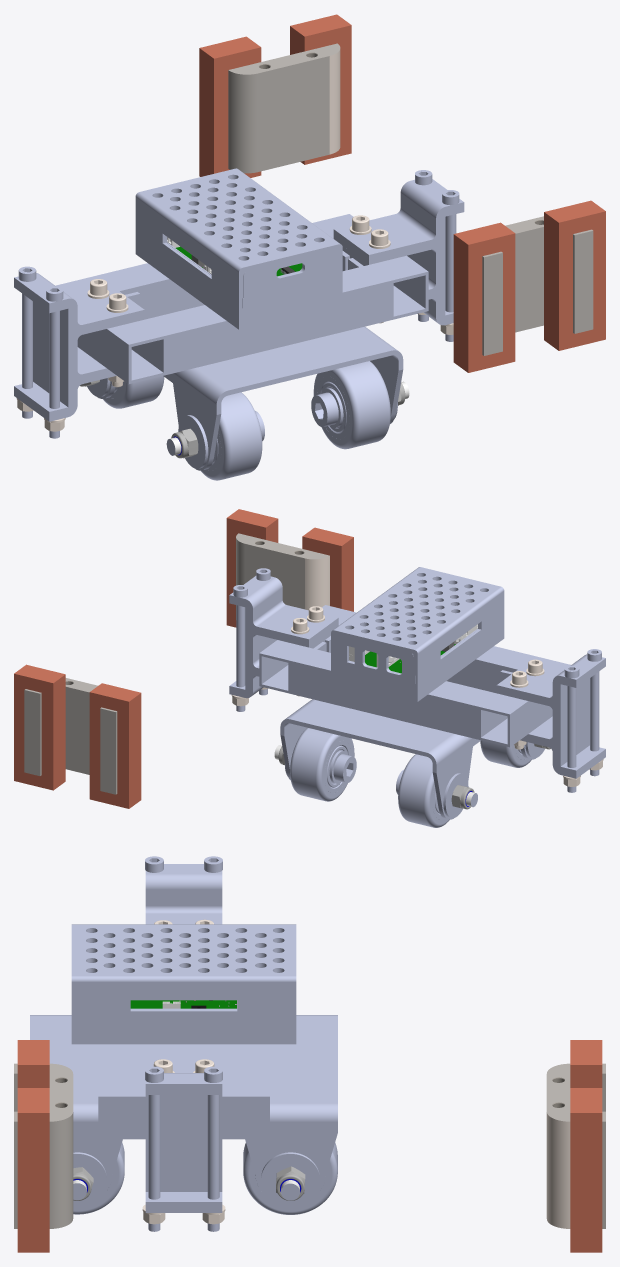
File: vehicle.glb
3 views of the same model, one above another, from view 1: azimuth 30°, elevation 25°; view 2: azimuth 150°, elevation 25°; view 3: azimuth 270°, elevation 25° (orthographic). The views are drawn at different scales.
Visible parts, largest first — view 1: caja placa pieza 1-1, EMSassembly-4/Ensamblaje unidad de levitación (EMS)-1/Bobina (×2), EMSassembly-5/Ensamblaje unidad de levitación (EMS)-1/Yugo-1, soporte ruedas-1, Larguero-3, EMSassembly-5/Ensamblaje unidad de levitación (EMS)-1/Bobina (×2), EMSassembly-4/Part2EMS-1, EMSassembly-4/Ensamblaje unidad de levitación (EMS)-1/Yugo-1, EMSassembly-5/Part2EMS-1, parte lateral caja placa pieza 2-1, Rueda-2, larguero entre perfiles-2 (+10 smaller); view 2: caja placa pieza 1-1, EMSassembly-5/Ensamblaje unidad de levitación (EMS)-1/Bobina (×2), soporte ruedas-1, Larguero-1, EMSassembly-4/Part2EMS-1, EMSassembly-5/Ensamblaje unidad de levitación (EMS)-1/Yugo-1, EMSassembly-5/Part2EMS-1, EMSassembly-4/Ensamblaje unidad de levitación (EMS)-1/Yugo-1, EMSassembly-4/Ensamblaje unidad de levitación (EMS)-1/Bobina (×2), Rueda-1, larguero entre perfiles-2, parte 2 lateral caja placa pieza 3-1 (+11 smaller); view 3: caja placa pieza 1-1, soporte ruedas-1, EMSassembly-5/Part2EMS-1, parte baja caja-1, EMSassembly-5/Ensamblaje unidad de levitación (EMS)-1/Bobina (×2), EMSassembly-4/Ensamblaje unidad de levitación (EMS)-1/Bobina (×2), larguero entre perfiles-1, EMSassembly-5/Ensamblaje unidad de levitación (EMS)-1/Yugo-1, EMSassembly-4/Ensamblaje unidad de levitación (EMS)-1/Yugo-1, EMSassembly-4/Part2EMS-1, Arandela exterior_Montaje soporte ruedas y abrazadera-1, Tornillo M10 x135-3 (+8 smaller).
Boxes of the visible parts, box(x1,y1,x2,y2) form: caja placa pieza 1-1: box(135, 168, 342, 308); EMSassembly-4/Ensamblaje unidad de levitación (EMS)-1/Bobina (×2): box(453, 200, 605, 372); EMSassembly-5/Ensamblaje unidad de levitación (EMS)-1/Yugo-1: box(228, 43, 340, 173); soporte ruedas-1: box(97, 326, 403, 470); Larguero-3: box(145, 265, 390, 374); EMSassembly-5/Ensamblaje unidad de levitación (EMS)-1/Bobina (×2): box(199, 14, 351, 177); EMSassembly-4/Part2EMS-1: box(14, 273, 144, 421); EMSassembly-4/Ensamblaje unidad de levitación (EMS)-1/Yugo-1: box(482, 216, 593, 355); EMSassembly-5/Part2EMS-1: box(333, 179, 464, 325); parte lateral caja placa pieza 2-1: box(243, 250, 337, 323); Rueda-2: box(313, 361, 390, 449); larguero entre perfiles-2: box(55, 278, 166, 383); caja placa pieza 1-1: box(331, 567, 504, 684); EMSassembly-5/Ensamblaje unidad de levitación (EMS)-1/Bobina (×2): box(14, 664, 141, 808); soporte ruedas-1: box(280, 699, 535, 819); Larguero-1: box(291, 647, 496, 739); EMSassembly-4/Part2EMS-1: box(496, 654, 605, 778); EMSassembly-5/Ensamblaje unidad de levitación (EMS)-1/Yugo-1: box(24, 678, 117, 794); EMSassembly-5/Part2EMS-1: box(229, 576, 338, 698); EMSassembly-4/Ensamblaje unidad de levitación (EMS)-1/Yugo-1: box(236, 533, 329, 619); EMSassembly-4/Ensamblaje unidad de levitación (EMS)-1/Bobina (×2): box(226, 509, 353, 627); Rueda-1: box(290, 728, 354, 801); larguero entre perfiles-2: box(478, 658, 570, 747); parte 2 lateral caja placa pieza 3-1: box(335, 635, 413, 696); caja placa pieza 1-1: box(71, 924, 296, 1011); soporte ruedas-1: box(30, 1015, 337, 1208); EMSassembly-5/Part2EMS-1: box(145, 1065, 222, 1212); parte baja caja-1: box(71, 1008, 296, 1044); EMSassembly-5/Ensamblaje unidad de levitación (EMS)-1/Bobina (×2): box(570, 1040, 602, 1252); EMSassembly-4/Ensamblaje unidad de levitación (EMS)-1/Bobina (×2): box(17, 1040, 49, 1252); larguero entre perfiles-1: box(98, 1076, 269, 1139); EMSassembly-5/Ensamblaje unidad de levitación (EMS)-1/Yugo-1: box(546, 1063, 605, 1228); EMSassembly-4/Ensamblaje unidad de levitación (EMS)-1/Yugo-1: box(14, 1063, 73, 1228); EMSassembly-4/Part2EMS-1: box(145, 864, 222, 924); Arandela exterior_Montaje soporte ruedas y abrazadera-1: box(261, 1152, 319, 1207); Tornillo M10 x135-3: box(145, 1066, 163, 1231).
Bounding box in the file's own units: 0.5279 × 0.207 × 0.5.
35 materials, 1 textured.
